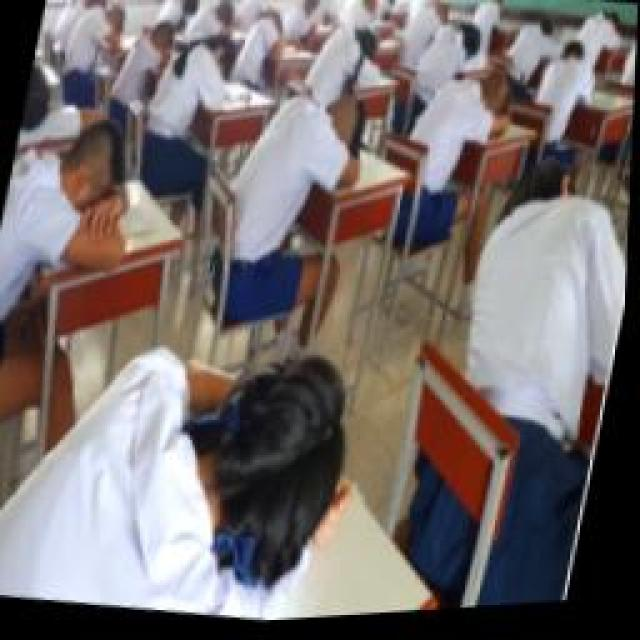sleep: (0, 300, 382, 640), (450, 148, 632, 420), (0, 108, 150, 278), (255, 78, 383, 202), (432, 57, 522, 155), (158, 22, 242, 122), (305, 18, 390, 100), (420, 20, 495, 88), (538, 47, 608, 115), (70, 0, 132, 58), (572, 15, 630, 67), (128, 20, 178, 80), (242, 5, 292, 63), (508, 20, 560, 75), (195, 0, 242, 52)
